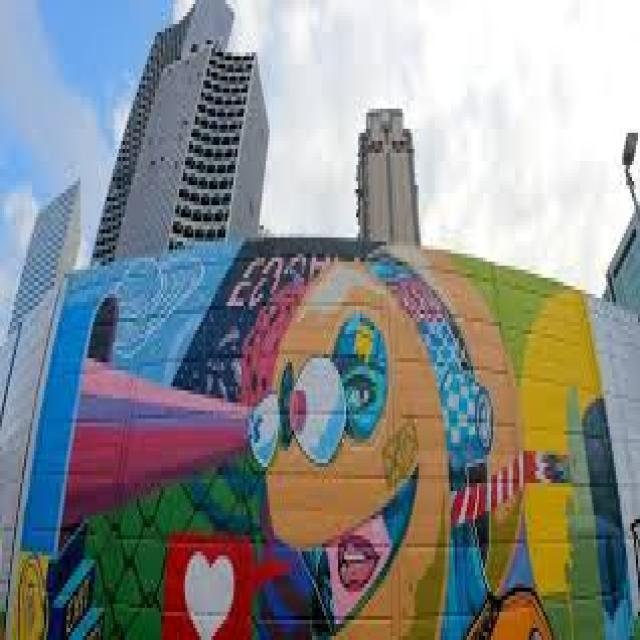-: (14, 235, 634, 640)
